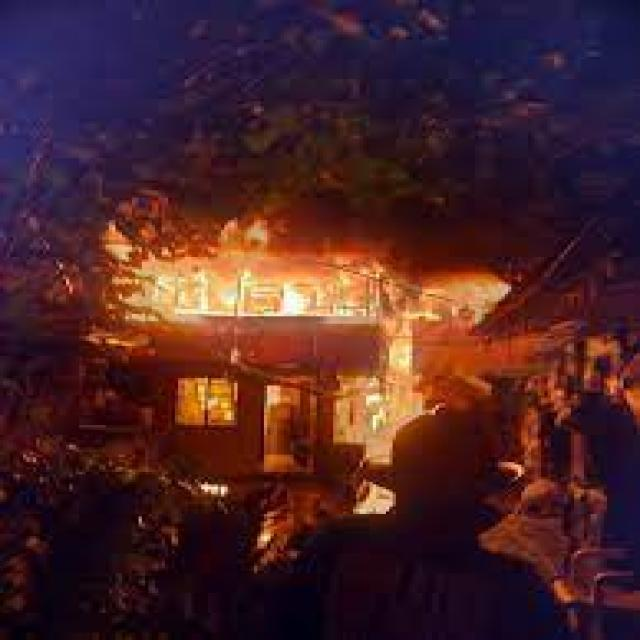Fire: (192, 253, 499, 355)
